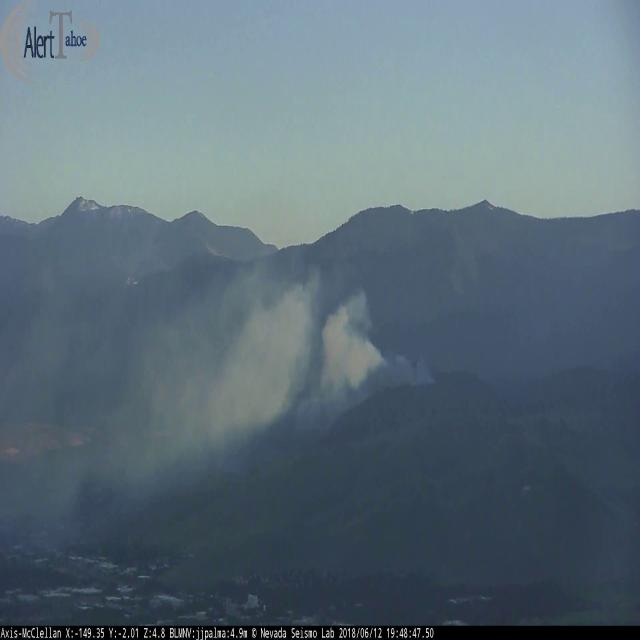smoke: (0, 197, 433, 522)
